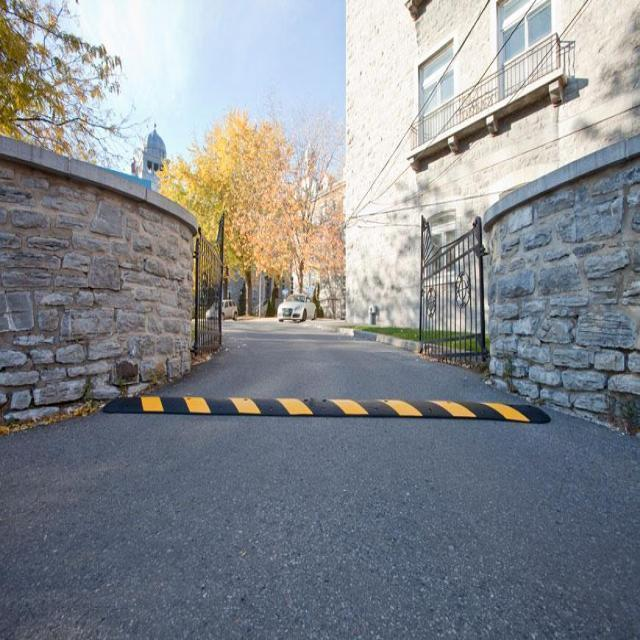speedbreaker: (84, 388, 558, 433)
